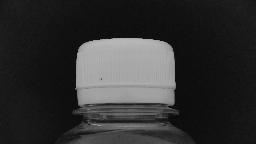Good Cap: (65, 34, 183, 120)
